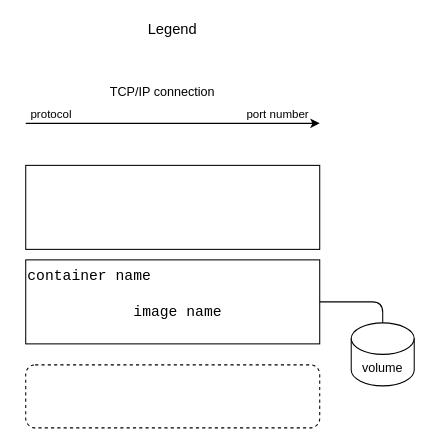
This 433x446 diagram has some shape labels left out. Each missing label, with the centre of its shape:
"docker-composer configuration" belongs at point (172, 396).
"host boundary" belongs at point (172, 206).
